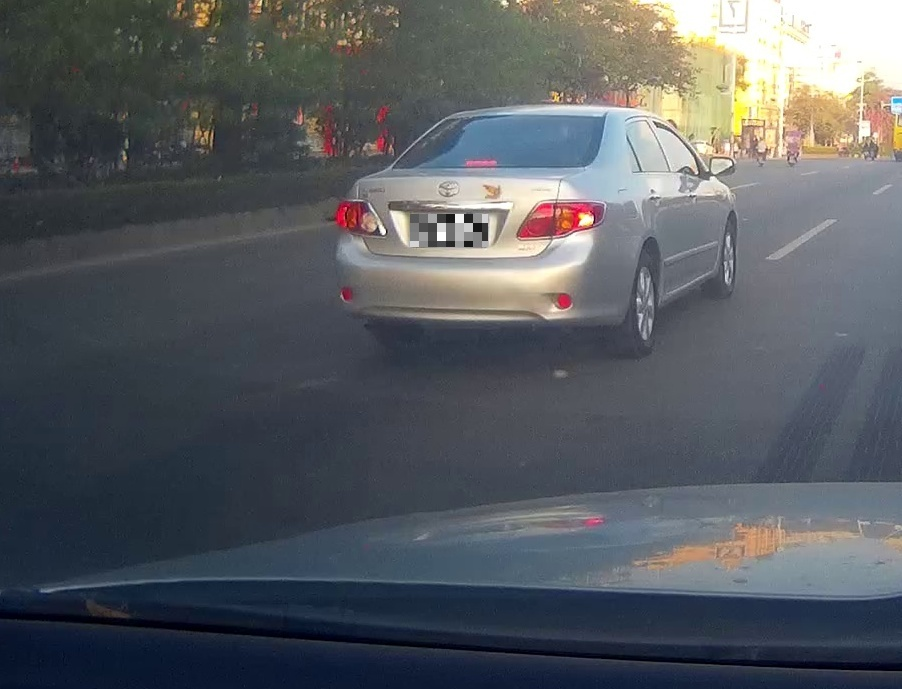L_light: (334, 198, 388, 239)
R_light: (515, 198, 606, 241)
T_light: (463, 158, 498, 168)
day-right: (333, 97, 612, 359)
plate_1: (410, 214, 488, 247)
